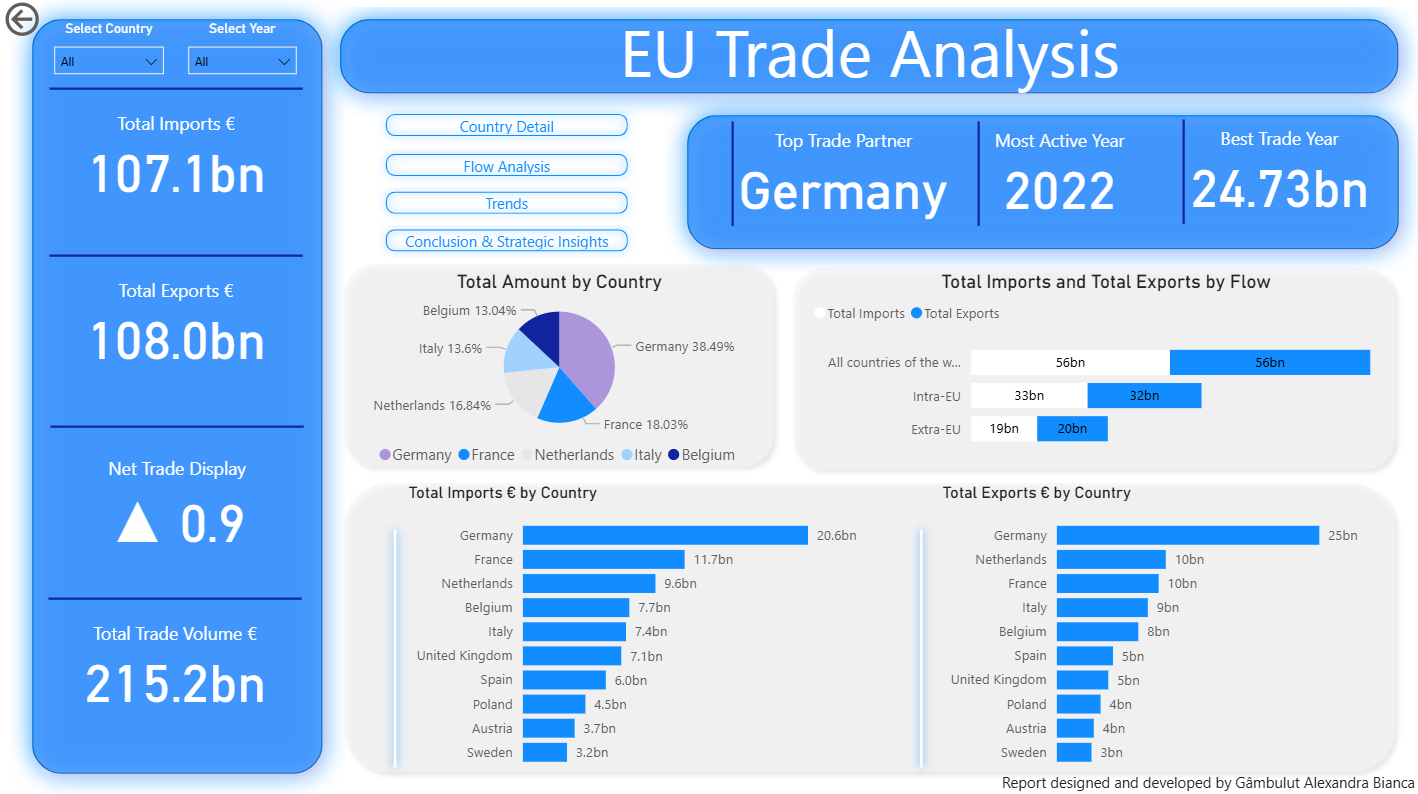

Layout of this report page (visuals, bound fields, positions):
{"tool":"powerbi","page":{"name":"Overview","canvas":[1280,720],"ordinal":0},"visuals":[{"type":"shape","box":[598.9,86.1,681.1,160.8],"z":0},{"type":"shape","box":[706,235.3,560.2,199.3],"z":1000},{"type":"shape","box":[301.3,429.2,964.7,278.5],"z":2000},{"type":"shape","box":[286.6,0,993.4,106.8],"z":3000},{"type":"shape","box":[9,0,301.5,719.9],"z":4000},{"type":"textbox","box":[300.6,4.4,965.6,155.2],"z":5000},{"type":"barChart","fields":{"Category":["Fact_ImportsExports.Flow"],"Y":["Fact_ImportsExports.Total Imports","Fact_ImportsExports.Total Exports"]},"box":[728.1,246.4,537.1,172.6],"z":6000},{"type":"cardVisual","title":"YoY Imports % (vs previous year)","fields":{"Data":["Fact_ImportsExports.Total Imports €"]},"box":[39.9,76.9,238.6,133.8],"z":7000},{"type":"cardVisual","fields":{"Data":["Fact_ImportsExports.Total Exports €"]},"box":[39.9,226.6,238.6,133.8],"z":8000},{"type":"cardVisual","fields":{"Data":["Fact_ImportsExports.Total Trade Volume €"]},"box":[38.5,536.6,238.6,134.9],"z":9000},{"type":"slicer","title":"Select Country","fields":{"Values":["DimCountry.Country"]},"box":[38.9,22,118.8,63.9],"z":10000},{"type":"actionButton","box":[0,0,100,40],"z":11000},{"type":"slicer","title":"Select Year","fields":{"Values":["DimYear.DimYear"]},"box":[159.8,22,117.8,63.9],"z":12000},{"type":"pageNavigator","box":[339.3,97.5,234.2,138],"z":13000},{"type":"cardVisual","fields":{"Data":["Fact_ImportsExports.Net Trade Display"]},"box":[40.5,381.1,238,155.7],"z":14000},{"type":"cardVisual","title":"YoY Imports % (vs previous year)","fields":{"Data":["Fact_ImportsExports.Top Trade Partner"]},"box":[654,106.8,212.7,104.8],"z":15000},{"type":"cardVisual","title":"YoY Imports % (vs previous year)","fields":{"Data":["Fact_ImportsExports.Best Trade Year"]},"box":[1060.3,105.8,185.7,104.8],"z":16000},{"type":"cardVisual","title":"YoY Imports % (vs previous year)","fields":{"Data":["Fact_ImportsExports.Most Active Year"]},"box":[875.6,106.8,158.8,104.8],"z":17000},{"type":"shape","box":[301.2,231.3,404.7,200.3],"z":18000},{"type":"pieChart","title":"Total Amount by Country","fields":{"Category":["Fact_ImportsExports.Country"],"Y":["Fact_ImportsExports.Total Amount €"]},"box":[300.9,246.4,406.1,185.5],"z":19000},{"type":"barChart","fields":{"Category":["Fact_ImportsExports.Country"],"Y":["Fact_ImportsExports.Total Exports €"]},"box":[844.4,439,398.9,264.3],"z":20000},{"type":"barChart","fields":{"Category":["Fact_ImportsExports.Country"],"Y":["Fact_ImportsExports.Total Imports €"]},"box":[363.5,439,421,264.3],"z":21000},{"type":"shape","box":[817.4,472.4,25.7,230.1],"z":22000},{"type":"shape","box":[339,472.4,34.3,230.1],"z":23000},{"type":"textbox","box":[843.2,693.8,436.8,26.6],"z":24000}]}

Visuals, with their boxes in screenshot pixels (x1, y1, x2, y2), scaled from the page's 1280x720 canvas onto the 1418x794 screenshot:
shape: detection(663, 95, 1417, 272)
shape: detection(782, 259, 1403, 479)
shape: detection(334, 473, 1402, 780)
shape: detection(317, 0, 1417, 118)
shape: detection(10, 0, 344, 793)
textbox: detection(333, 5, 1403, 176)
barChart - Fact_ImportsExports.Flow x Fact_ImportsExports.Total Imports: detection(807, 272, 1402, 462)
"YoY Imports % (vs previous year)" cardVisual: detection(44, 85, 309, 232)
cardVisual - Fact_ImportsExports.Total Exports €: detection(44, 250, 309, 397)
cardVisual - Fact_ImportsExports.Total Trade Volume €: detection(43, 592, 307, 741)
"Select Country" slicer: detection(43, 24, 175, 95)
actionButton: detection(0, 0, 111, 44)
"Select Year" slicer: detection(177, 24, 308, 95)
pageNavigator: detection(376, 108, 635, 260)
cardVisual - Fact_ImportsExports.Net Trade Display: detection(45, 420, 309, 592)
"YoY Imports % (vs previous year)" cardVisual: detection(725, 118, 960, 233)
"YoY Imports % (vs previous year)" cardVisual: detection(1175, 117, 1380, 232)
"YoY Imports % (vs previous year)" cardVisual: detection(970, 118, 1146, 233)
shape: detection(334, 255, 782, 476)
"Total Amount by Country" pieChart: detection(333, 272, 783, 476)
barChart - Fact_ImportsExports.Country x Fact_ImportsExports.Total Exports €: detection(935, 484, 1377, 776)
barChart - Fact_ImportsExports.Country x Fact_ImportsExports.Total Imports €: detection(403, 484, 869, 776)
shape: detection(906, 521, 934, 775)
shape: detection(376, 521, 414, 775)
textbox: detection(934, 765, 1417, 793)
